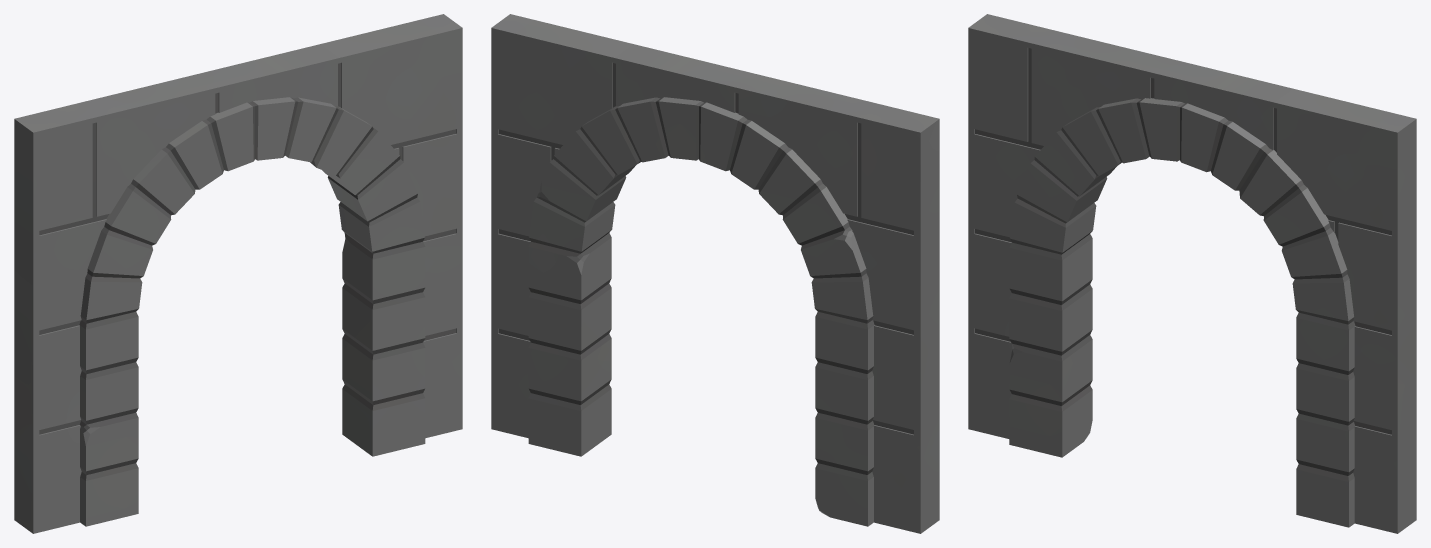
The model's file is Arch_4_Wall.fbx.
The picture shows the model from 3 angles, left to right: view 1: azimuth 30°, elevation 25°; view 2: azimuth 150°, elevation 25°; view 3: azimuth 330°, elevation 25°; orthographic projection.
Parts seen in each view (by area): view 1: Arch 4 Wall; view 2: Arch 4 Wall; view 3: Arch 4 Wall.
Boxes of the visible parts, x1=… form: Arch 4 Wall: x1=14, y1=14, x2=462, y2=533; Arch 4 Wall: x1=491, y1=14, x2=939, y2=533; Arch 4 Wall: x1=968, y1=14, x2=1416, y2=533.
Size of the model in its own units: 280 by 250 by 34.4.
